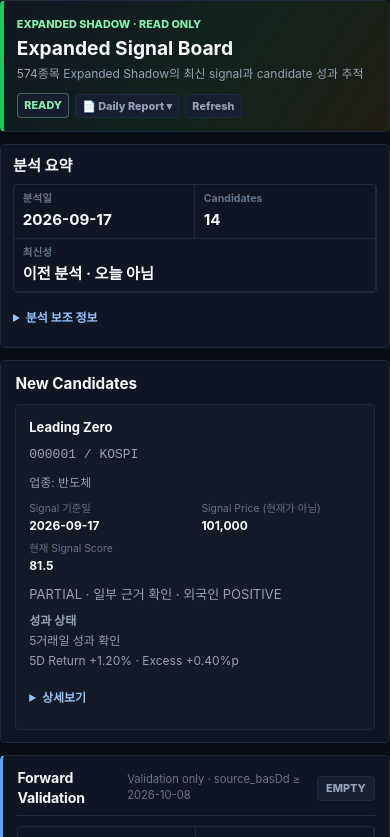
Scenario: ExpandedSignalBoard › Mobile Expanded presentation › shows a compact summary with supporting run information collapsed
This screenshot has width=390, height=837.
Expected: the text "2026-09-17" below "분석일" is shown, [23,210,112,229]
Expected: the text "이전 분석 · 오늘 아님" is shown, [23,264,154,283]
Click the heading "분석 보조 정보". click: (62,318)
box: [26,310,98,325]
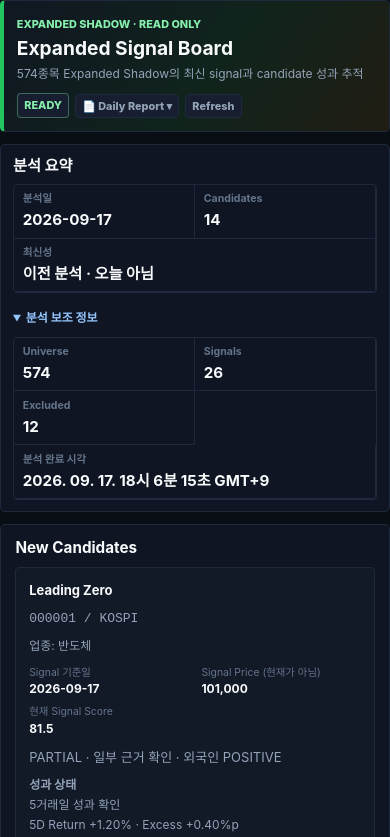
Expected: the text "574" is shown, [23,363,50,382]
Expected: the text "26" is shown, [204,363,223,382]
Expected: the text "12" is shown, [23,417,39,436]
